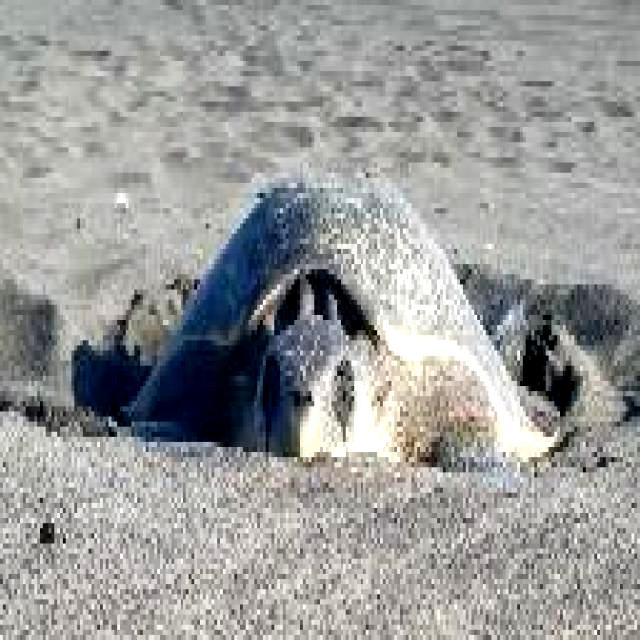Sea turtle: (38, 158, 564, 476)
